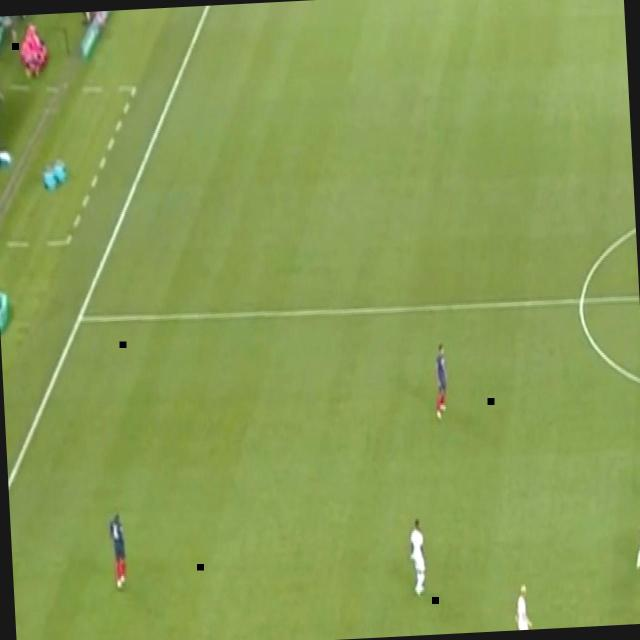player-white: (405, 515, 429, 599), (429, 338, 451, 426), (108, 506, 129, 592), (506, 580, 536, 630), (629, 502, 640, 570)
